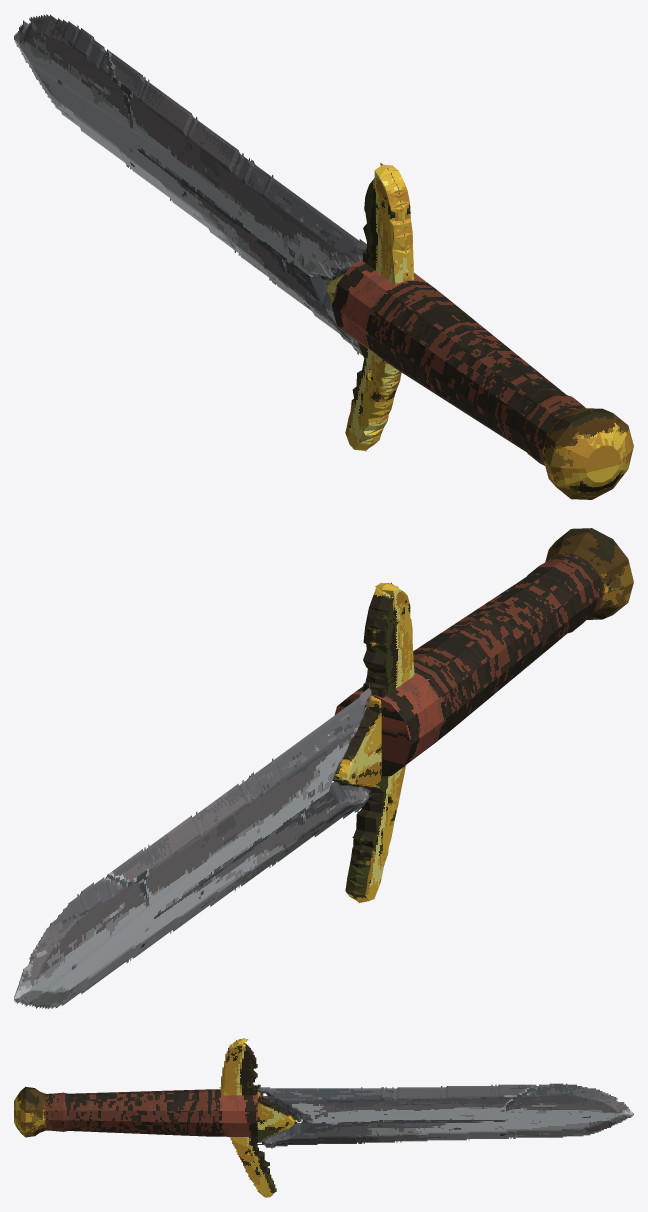
The model's file is shortsword.glb.
3 renders of one model, top to bottom at view 1: azimuth 30°, elevation 25°; view 2: azimuth 150°, elevation 25°; view 3: azimuth 270°, elevation 25°, orthographic. The views are drawn at different scales.
Visible parts, largest first — view 1: blade, grip, guard, pommel; view 2: blade, grip, guard, pommel; view 3: blade, grip, guard, pommel.
Part boxes in pixels (x1,y1,x2,y2): blade: (14, 14, 366, 355); grip: (332, 259, 585, 465); guard: (324, 163, 414, 451); pommel: (542, 408, 633, 499); blade: (14, 683, 371, 1009); grip: (334, 553, 603, 776); guard: (332, 582, 414, 903); pommel: (545, 528, 633, 619); blade: (257, 1083, 633, 1148); grip: (45, 1089, 257, 1136); guard: (219, 1038, 301, 1197); pommel: (14, 1086, 45, 1137).
Size of the model in its own units: 0.0572 by 0.1952 by 0.6962.
2 materials, 2 textured.
